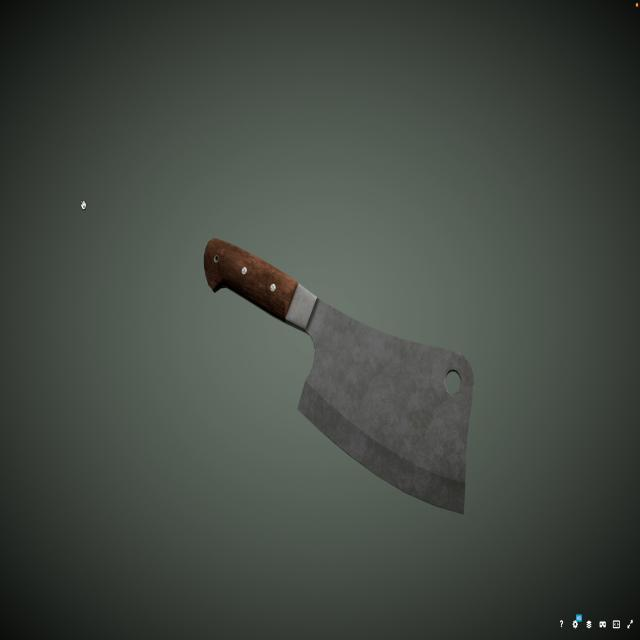cleaver: (203, 232, 478, 528)
